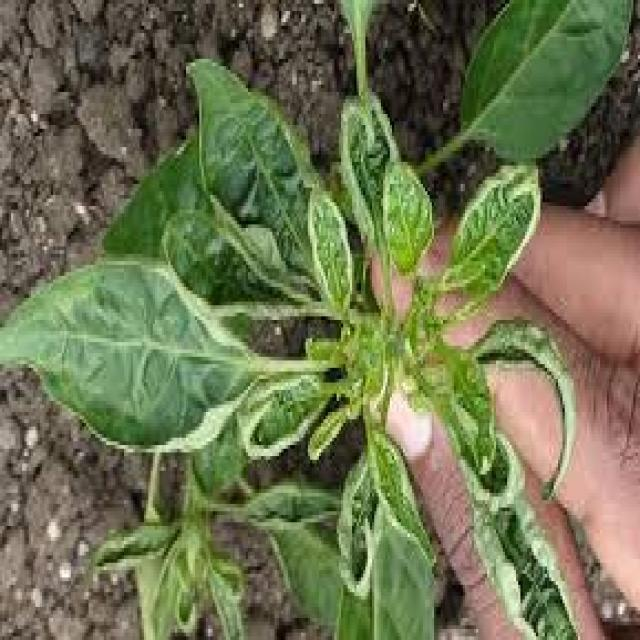Nutirtion_deficie: (297, 163, 520, 523), (29, 259, 264, 499), (175, 53, 324, 249), (328, 439, 434, 576)
